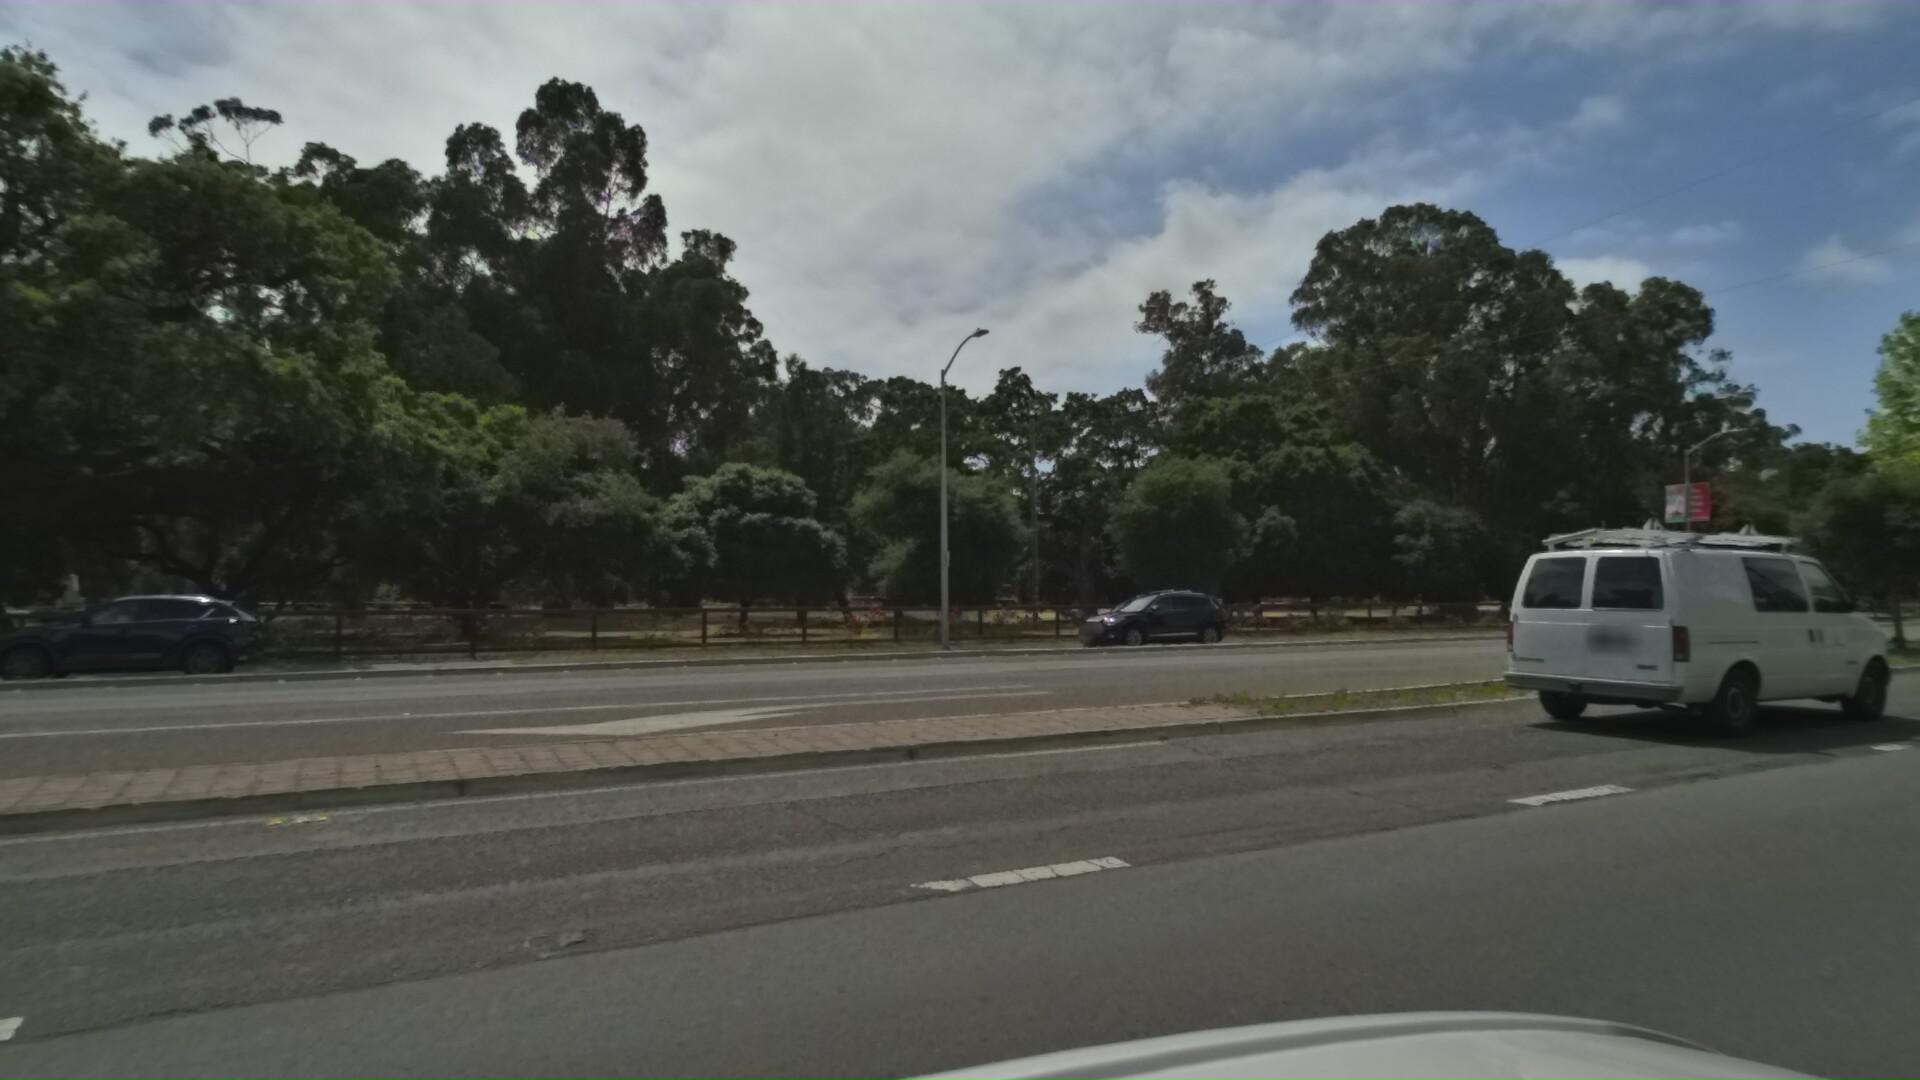car: (1499, 502, 1920, 748), (0, 593, 220, 691), (1036, 589, 1211, 653)
